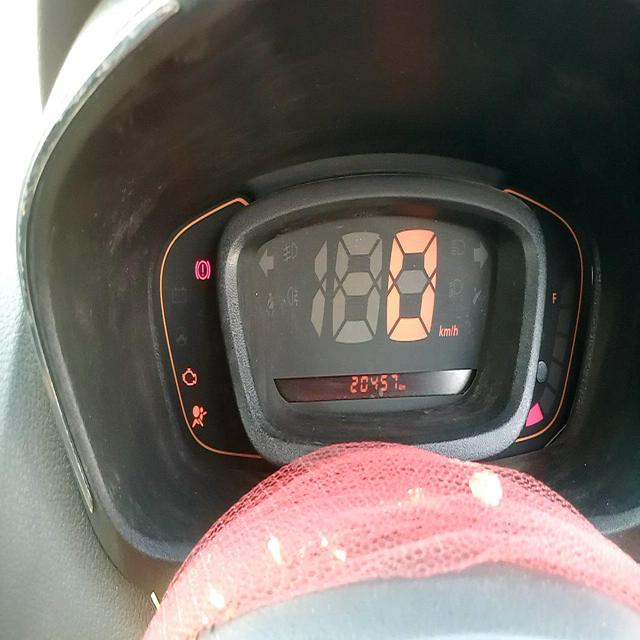odometer: (345, 372, 405, 399)
